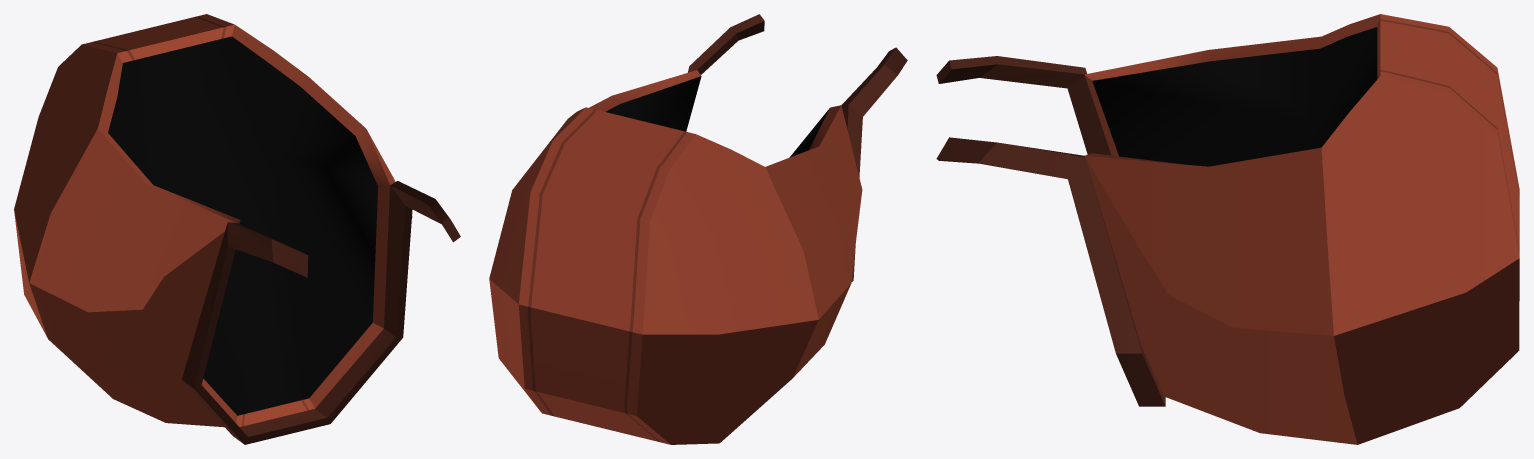
Rendered from LeatherCoif_F.glb.
3 views of the same model, side by side, from view 1: azimuth 30°, elevation 25°; view 2: azimuth 150°, elevation 25°; view 3: azimuth 270°, elevation 25° (orthographic). The views are drawn at different scales.
Visible parts, largest first — view 1: LeatherCoif_F; view 2: LeatherCoif_F; view 3: LeatherCoif_F.
Boxes of the visible parts, left/top/right/bottom form: LeatherCoif_F: left=14, top=14, right=460, bottom=444; LeatherCoif_F: left=489, top=14, right=907, bottom=444; LeatherCoif_F: left=936, top=14, right=1519, bottom=444.
Size of the model in its own units: 0.2666 by 0.253 by 0.3701.
1 material, 1 textured.
